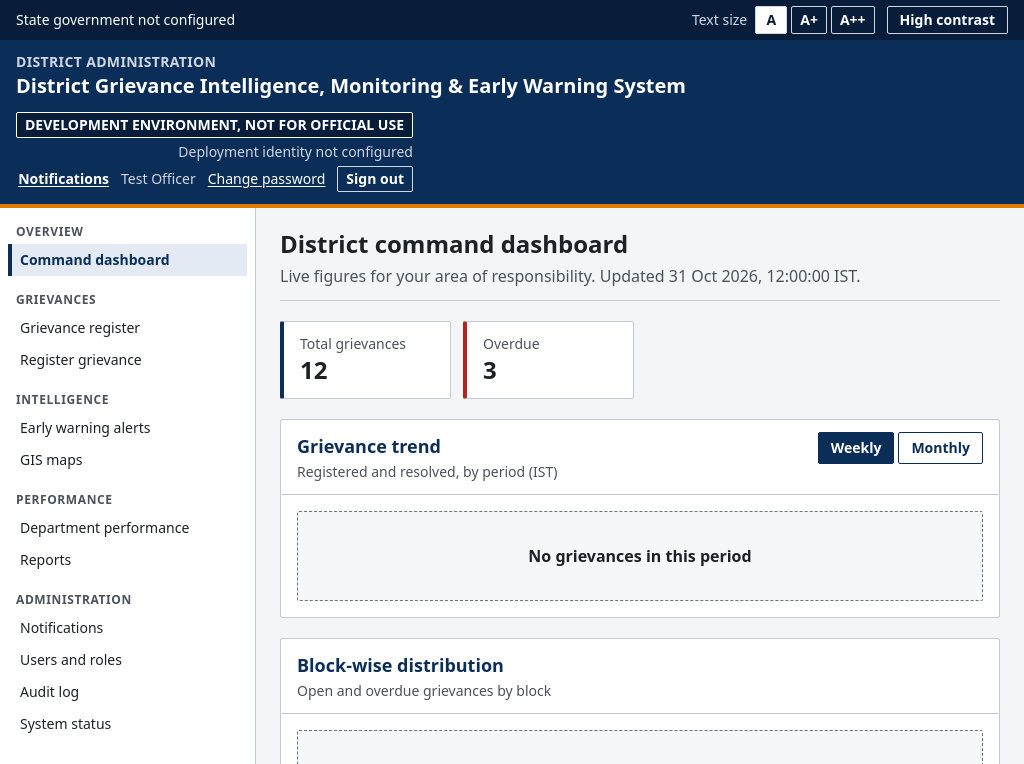
Test: Accessibility controls › changes text size and contrast, and remembers them
This screenshot has width=1024, height=764.
Click the button named "A++ (larger text size)" at (853,20), box [831,6,875,34]
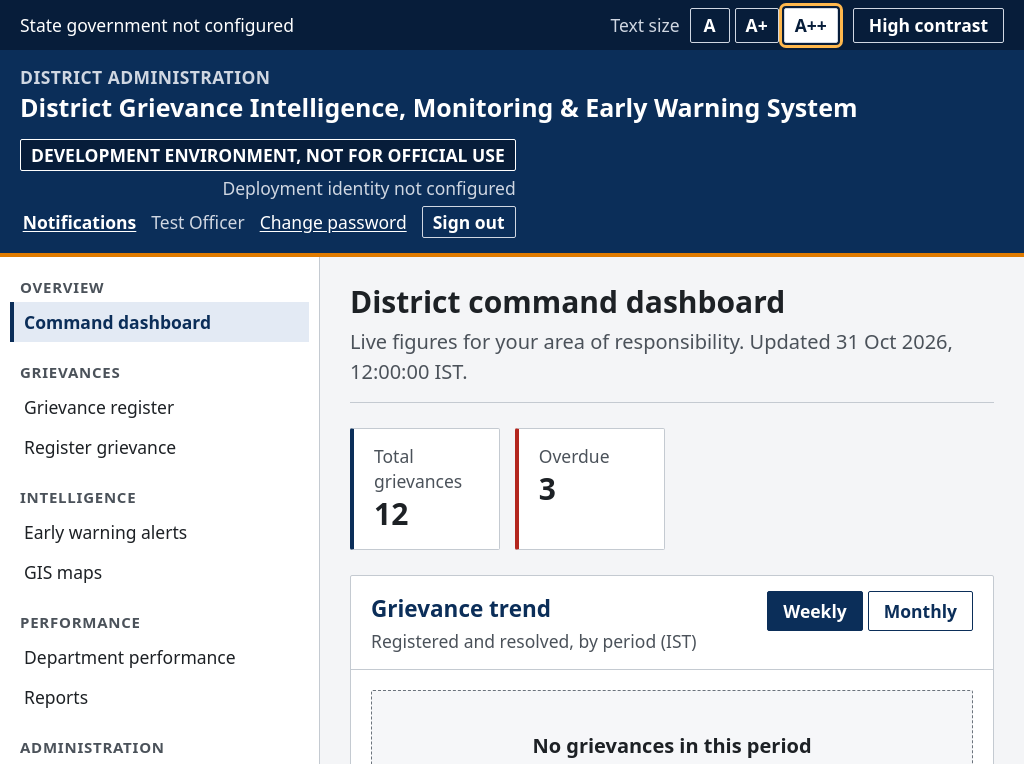
Result: the button named "A++ (larger text size)" is pressed at [784,8,838,42]
Click the button "High contrast" at (928,25), box [853,8,1004,42]
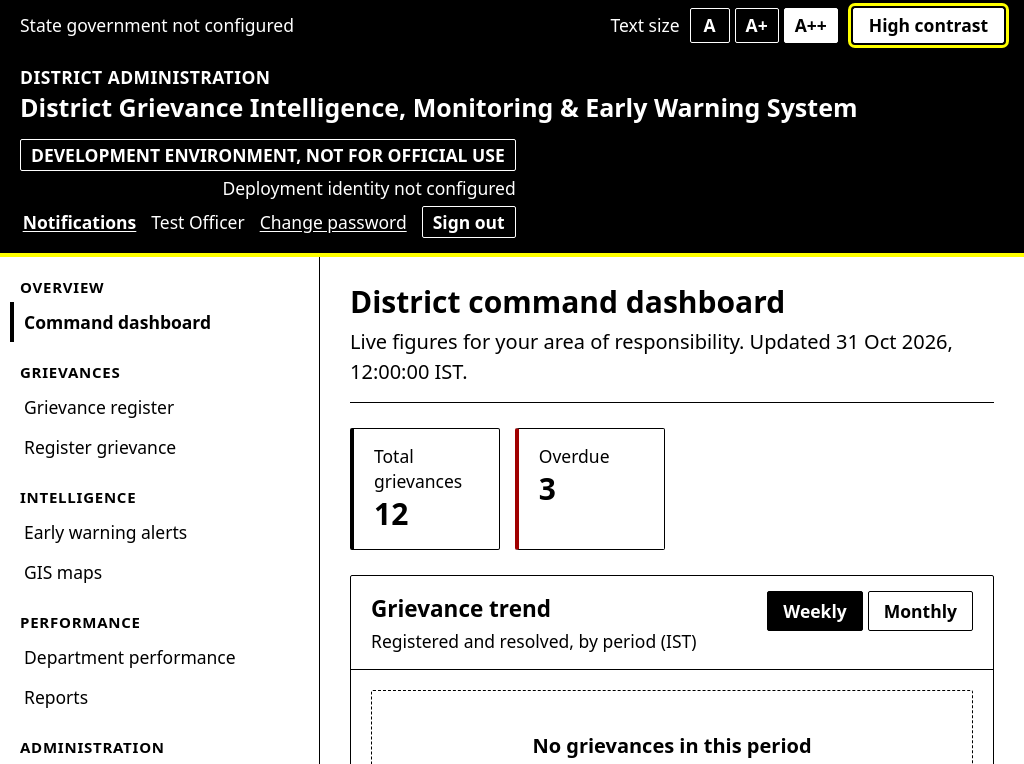
Result: the button "High contrast" is pressed at [853,8,1004,42]
